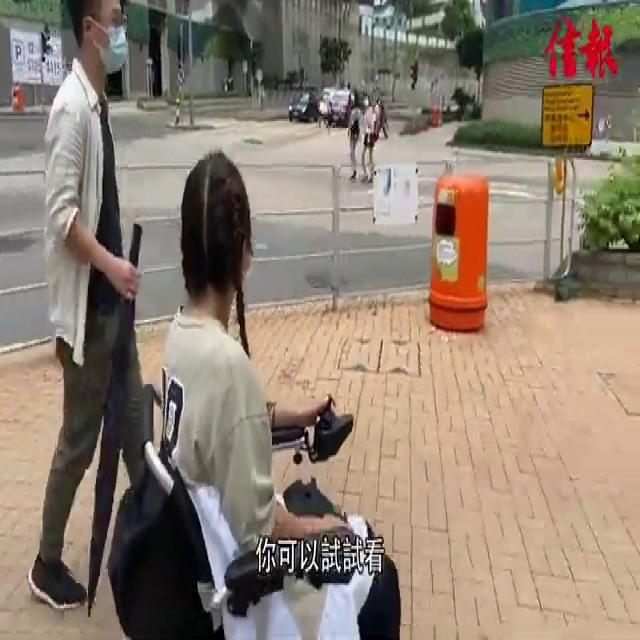wheelchairs: (95, 356, 420, 640)
